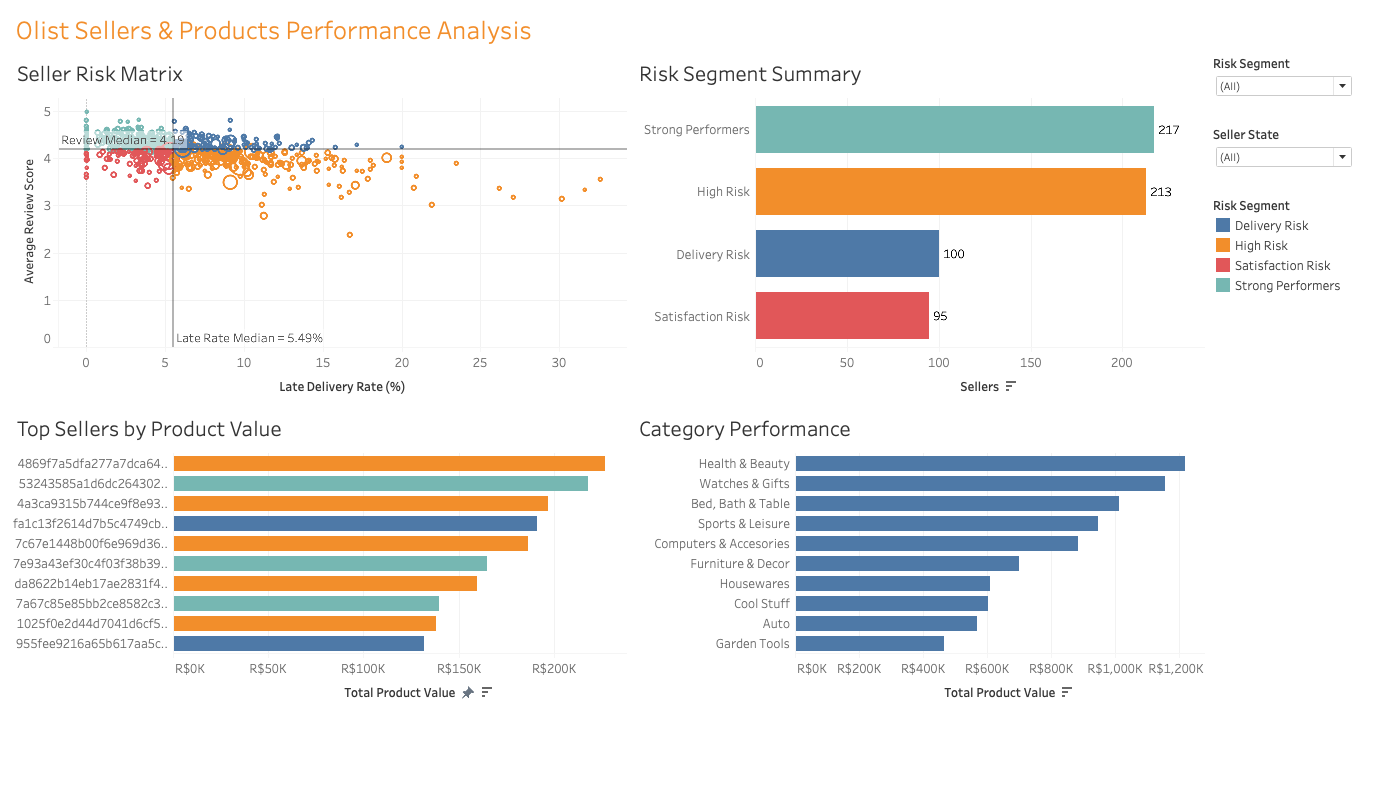

What the dashboard file says about the page in this screenshot:
{"tool":"tableau","page":{"name":"Olist Sellers & Products Performance Analysis","canvas":[1366,768],"ordinal":3},"visuals":[{"type":"title","box":[8,8,1350,42]},{"type":"worksheet","title":"Sellers - Seller Risk Matrix","mark":"Automatic","rows":["avg_review_score"],"cols":["late_delivery_rate_pct"],"box":[8,50,622,355]},{"type":"worksheet","title":"Sellers - Risk Segment Summary","mark":"Bar","rows":["risk_segment"],"cols":["seller_id"],"box":[630,50,578,355]},{"type":"filter","title":"Sellers - Seller Risk Matrix","param":"[federated.1lkr64z12lqbdd1d60nu718grhkb].[none:risk_segment:nk]","box":[1208,50,150,71]},{"type":"filter","title":"Sellers - Seller Risk Matrix","param":"[federated.1lkr64z12lqbdd1d60nu718grhkb].[none:seller_state:nk]","box":[1208,121,150,71]},{"type":"legend","title":"Sellers - Seller Risk Matrix","param":"[federated.1lkr64z12lqbdd1d60nu718grhkb].[none:risk_segment:nk]","box":[1208,192,150,568]},{"type":"worksheet","title":"Sellers - Top Sellers by Product Value","mark":"Automatic","rows":["seller_id"],"cols":["product_value"],"box":[8,405,622,355]},{"type":"worksheet","title":"Products - Category Performance","mark":"Automatic","rows":["product_category"],"cols":["product_value"],"box":[630,405,578,306]}]}

Visuals, with their boxes in screenshot pixels (x1, y1, x2, y2), scaled from the page's 1366x768 canvas onto the 1379x789 screenshot:
title: 8,8,1371,51
"Sellers - Seller Risk Matrix" worksheet: 8,51,636,416
"Sellers - Risk Segment Summary" worksheet (Bar marks): 636,51,1219,416
"Sellers - Seller Risk Matrix" filter: 1219,51,1371,124
"Sellers - Seller Risk Matrix" filter: 1219,124,1371,197
"Sellers - Seller Risk Matrix" legend: 1219,197,1371,781
"Sellers - Top Sellers by Product Value" worksheet: 8,416,636,781
"Products - Category Performance" worksheet: 636,416,1219,730
